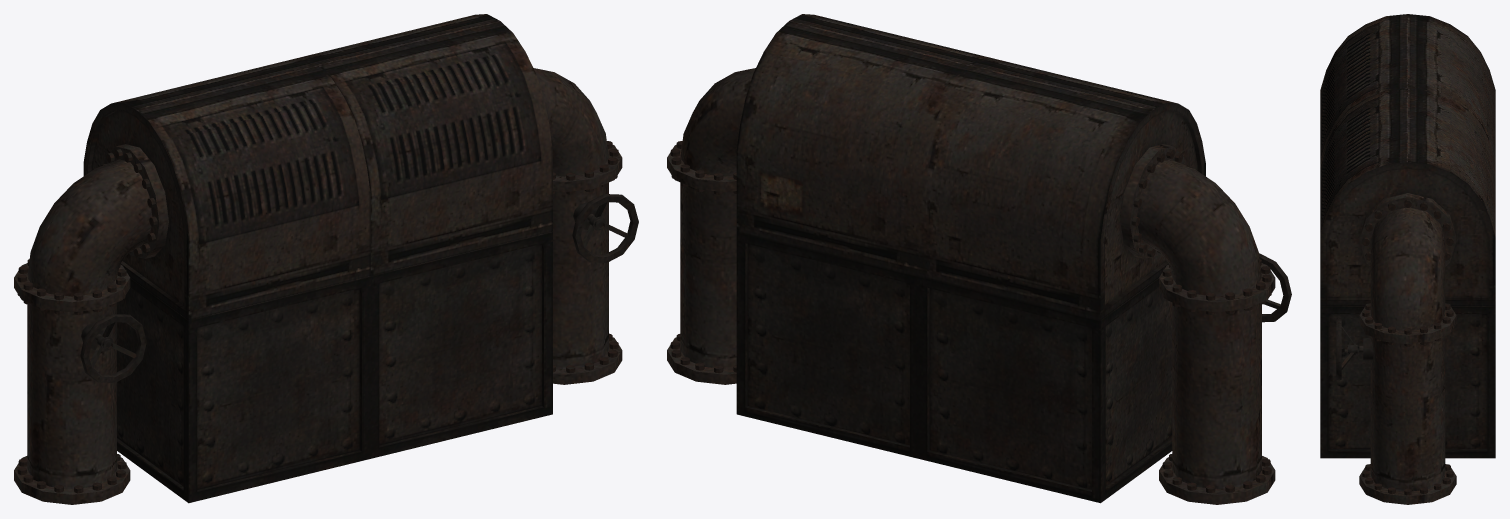
Rendered from machinery_mx_1.obj.
3 views of the same model, side by side, from view 1: azimuth 30°, elevation 25°; view 2: azimuth 150°, elevation 25°; view 3: azimuth 270°, elevation 25° (orthographic). The views are drawn at different scales.
Visible parts, largest first — view 1: machinery_mx_1; view 2: machinery_mx_1; view 3: machinery_mx_1.
Boxes of the visible parts, left/top/right/bottom form: machinery_mx_1: left=14, top=14, right=638, bottom=504; machinery_mx_1: left=667, top=14, right=1291, bottom=504; machinery_mx_1: left=1320, top=14, right=1495, bottom=504.
Size of the model in its own units: 3.06 by 1.75 by 0.94.
